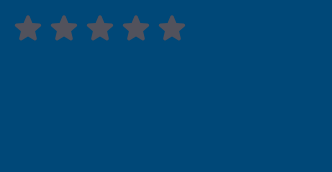
Test case: StarRating › should reset displayed rating when mouse leaves the group
Hover over the button named "Rate 3 stars" at (108, 28), box [100,12,116,44]
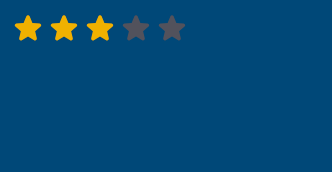
Move the pointer off the element named "Star Rating", box [12,12,188,44]
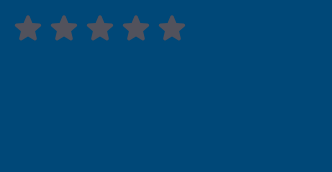
Check: no elements with class "overflow-hidden" are shown
